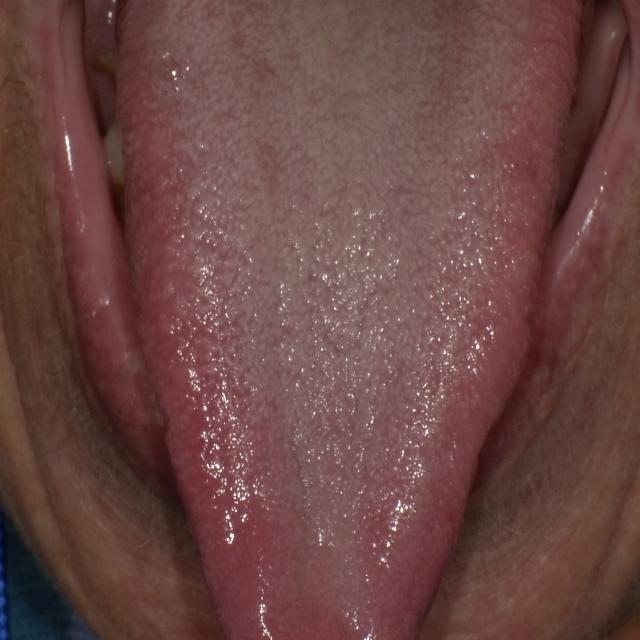baitaishe: (116, 2, 584, 640)
hongshe: (116, 2, 584, 640)
